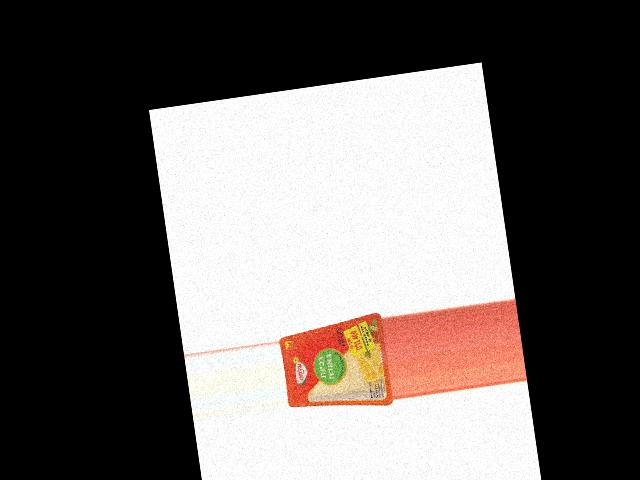cheese: (277, 311, 394, 418)
